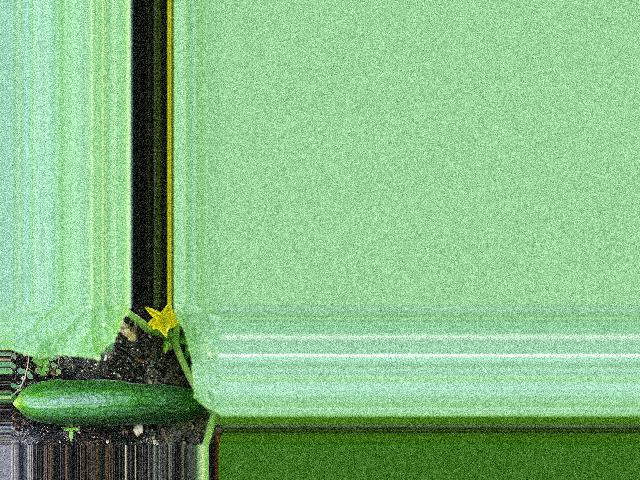cucumber: (12, 379, 203, 426)
